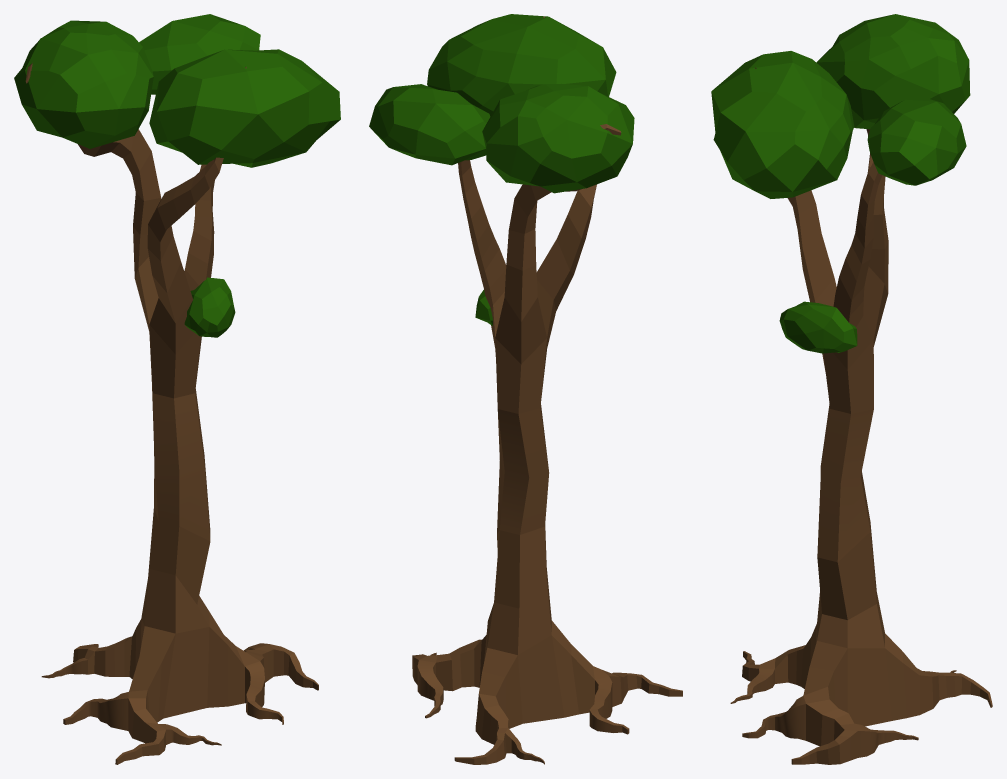
The model's file is Forest_Tree_Platforms_4_10_4.fbx.
3 views of the same model, side by side, from view 1: azimuth 30°, elevation 25°; view 2: azimuth 150°, elevation 25°; view 3: azimuth 270°, elevation 25° (orthographic).
Parts seen in each view (by area): view 1: Tree_Trunk4, Leaves_Bush2, Leaves_Bush1, Leaves_Bush, Leaves_Bush3; view 2: Tree_Trunk4, Leaves_Bush1, Leaves_Bush2, Leaves_Bush; view 3: Tree_Trunk4, Leaves_Bush2, Leaves_Bush1, Leaves_Bush, Leaves_Bush3.
Boxes of the visible parts, x1,y1,x2,y2 form: Tree_Trunk4: (25, 63, 318, 764); Leaves_Bush2: (149, 49, 340, 167); Leaves_Bush1: (14, 20, 153, 148); Leaves_Bush: (139, 14, 260, 94); Leaves_Bush3: (184, 277, 235, 337); Tree_Trunk4: (412, 16, 682, 764); Leaves_Bush1: (482, 83, 634, 193); Leaves_Bush2: (427, 14, 616, 116); Leaves_Bush: (369, 84, 490, 165); Tree_Trunk4: (730, 67, 992, 764); Leaves_Bush2: (711, 51, 854, 198); Leaves_Bush1: (816, 14, 970, 129); Leaves_Bush: (867, 96, 966, 185); Leaves_Bush3: (779, 301, 857, 353).
Size of the model in its own units: 392 by 1000 by 388.
